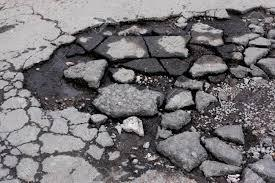alligator-crack: (0, 10, 275, 183)
